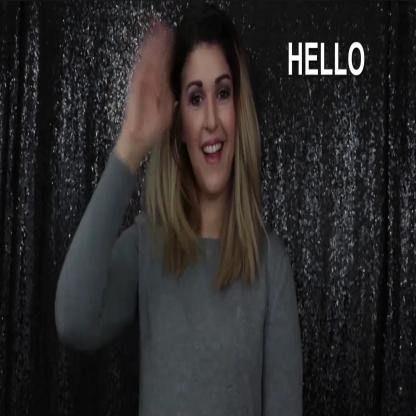Hello: (120, 2, 246, 223)
